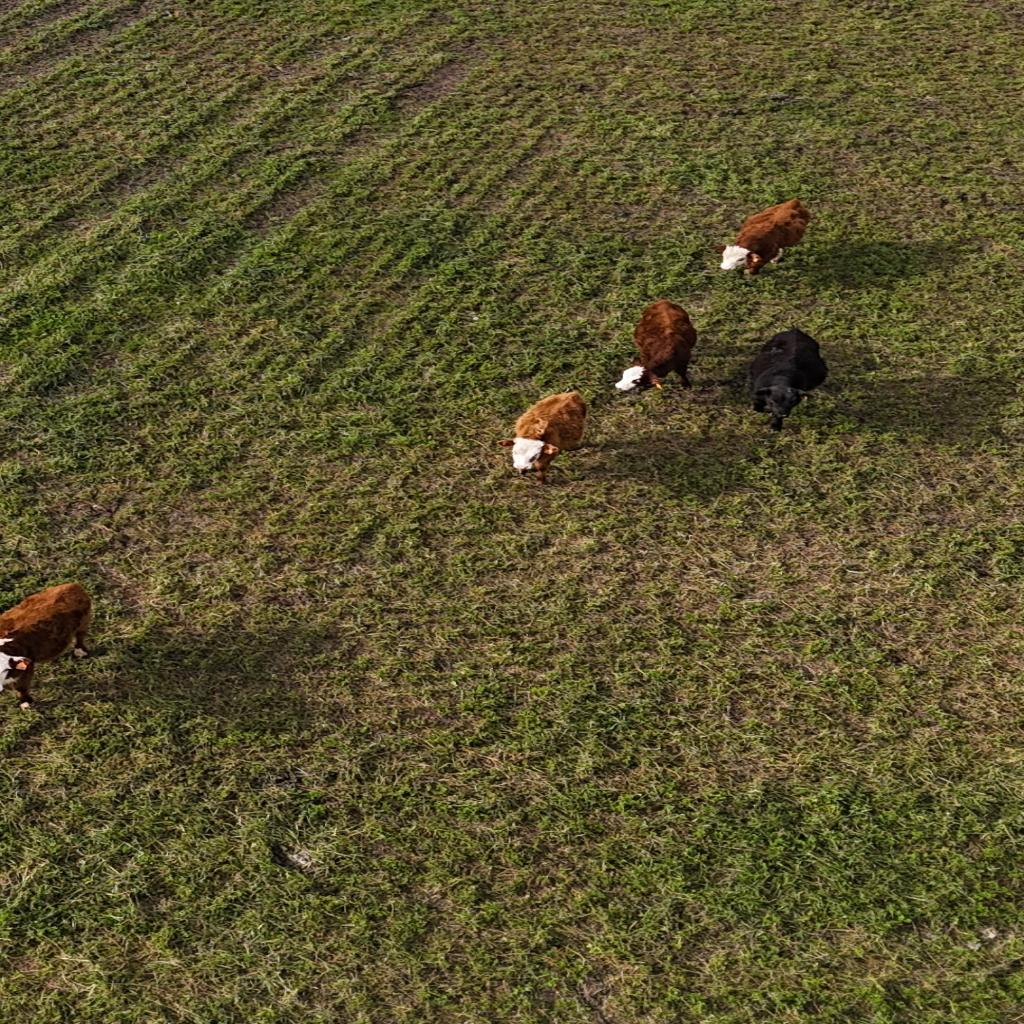cow: (1, 574, 103, 713), (742, 325, 832, 431), (495, 390, 591, 484), (714, 195, 816, 277), (620, 299, 700, 395)
